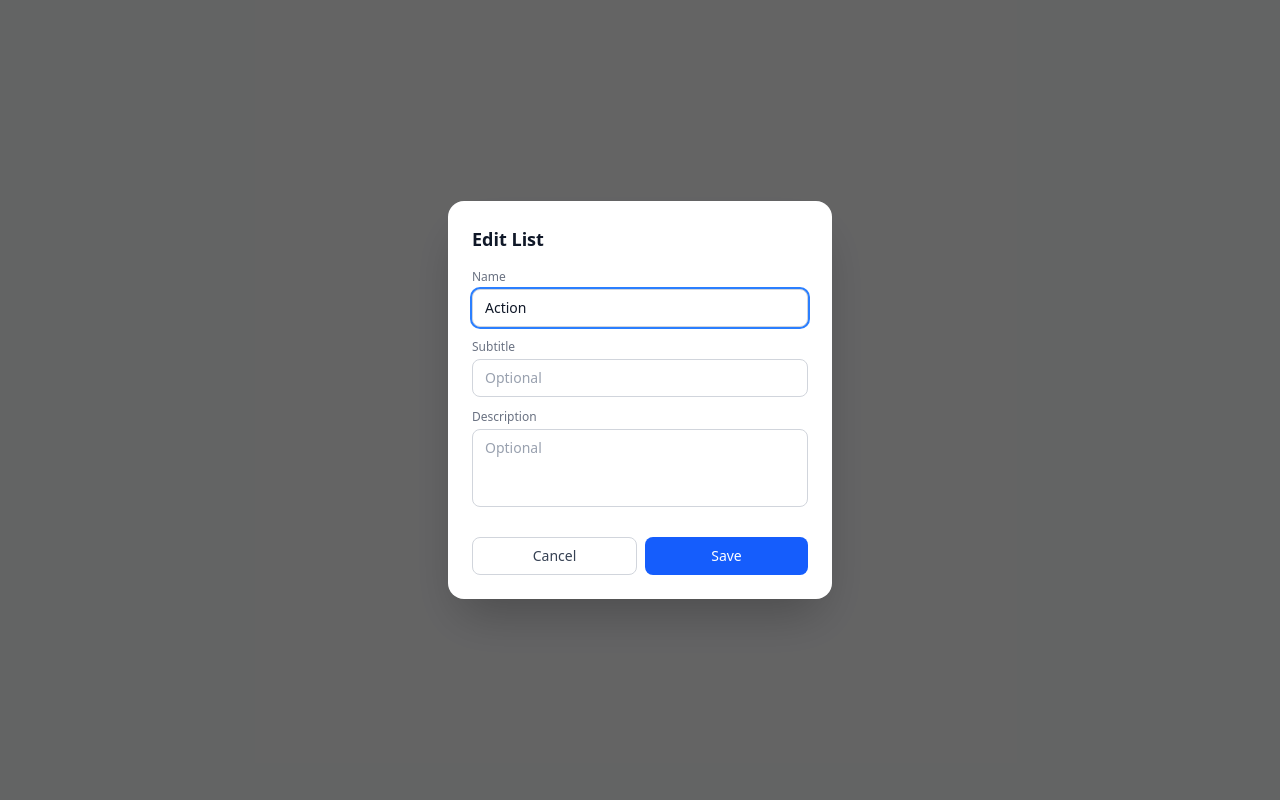
Test case: EditListDialog › disables Save button when name is cleared
Clear the field with placeholder "List name" at (640, 308), box [472,289,808,327]
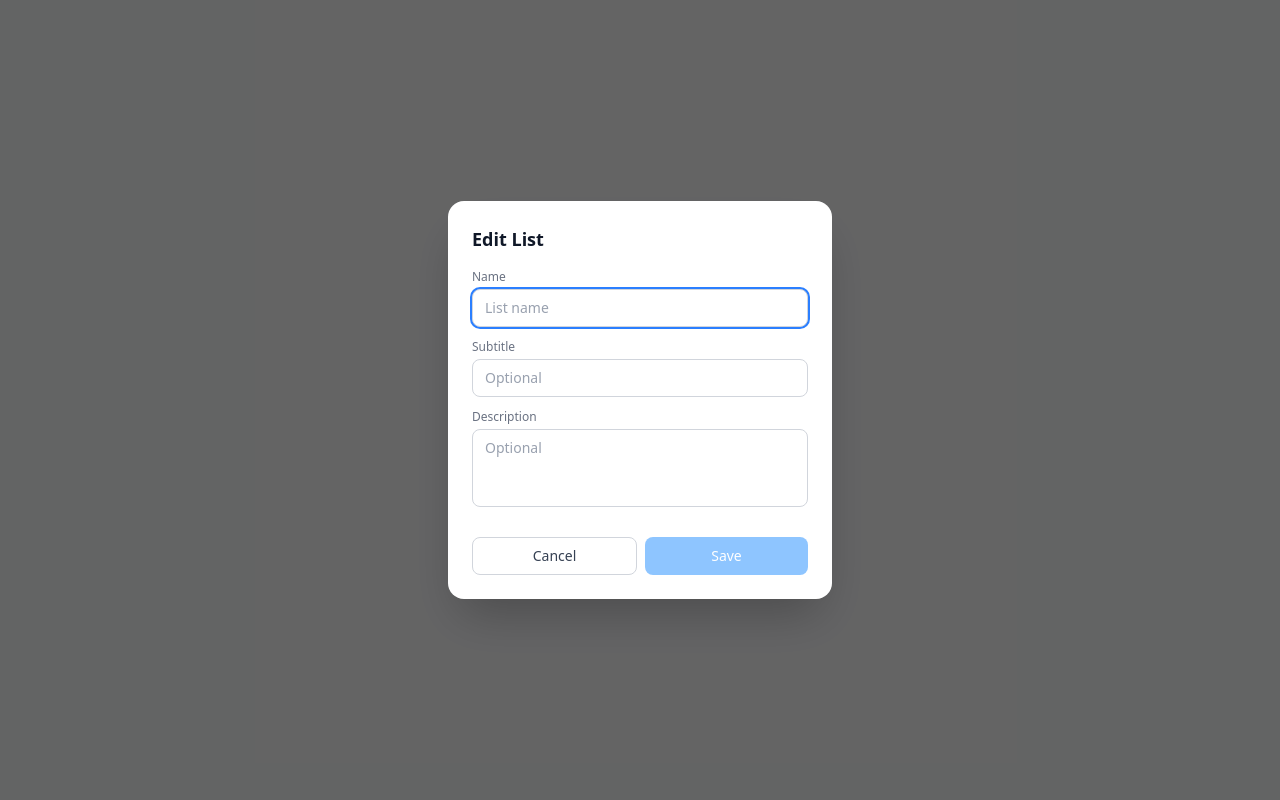
Now the button "Save" is disabled, box [645,537,808,575]
